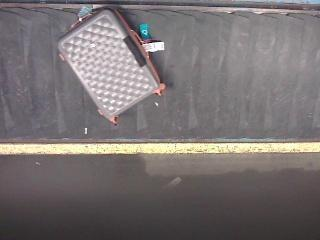Suitcase: (60, 7, 165, 123)
